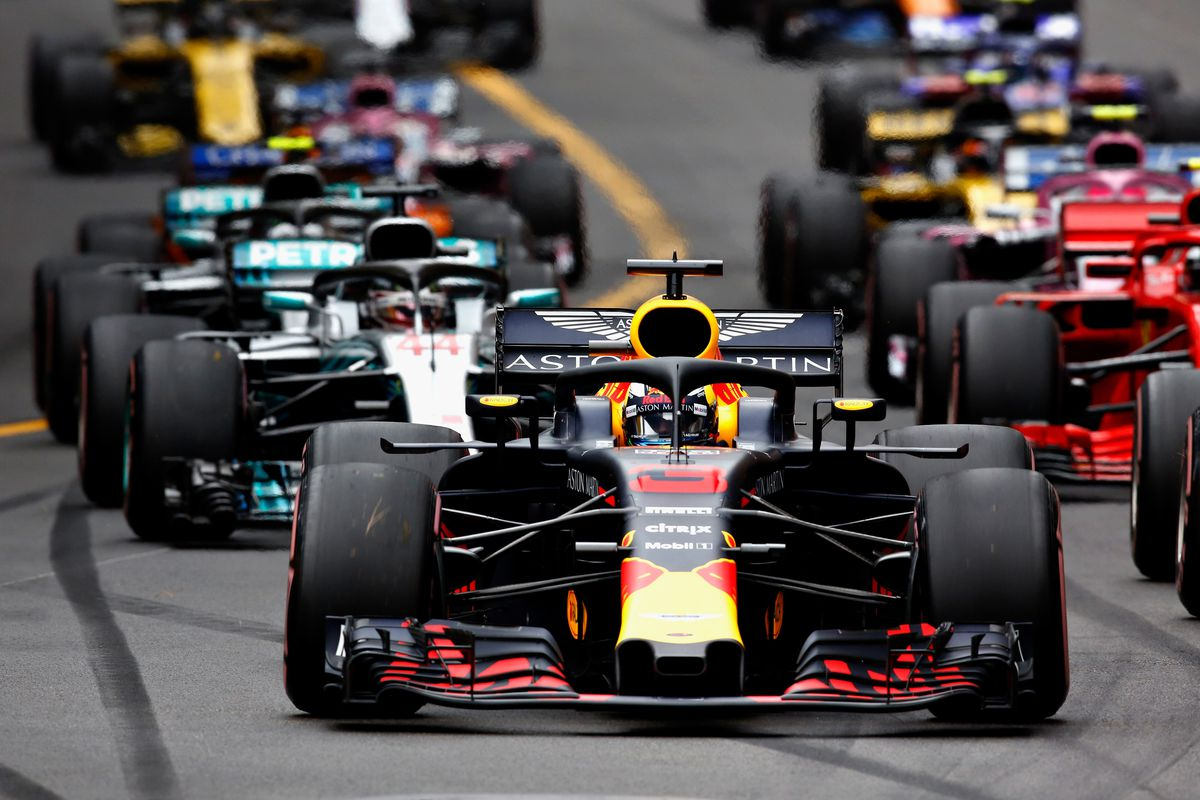f1_car: (266, 248, 1088, 760), (125, 185, 592, 554)
helmet: (614, 368, 725, 458), (359, 268, 460, 337)
